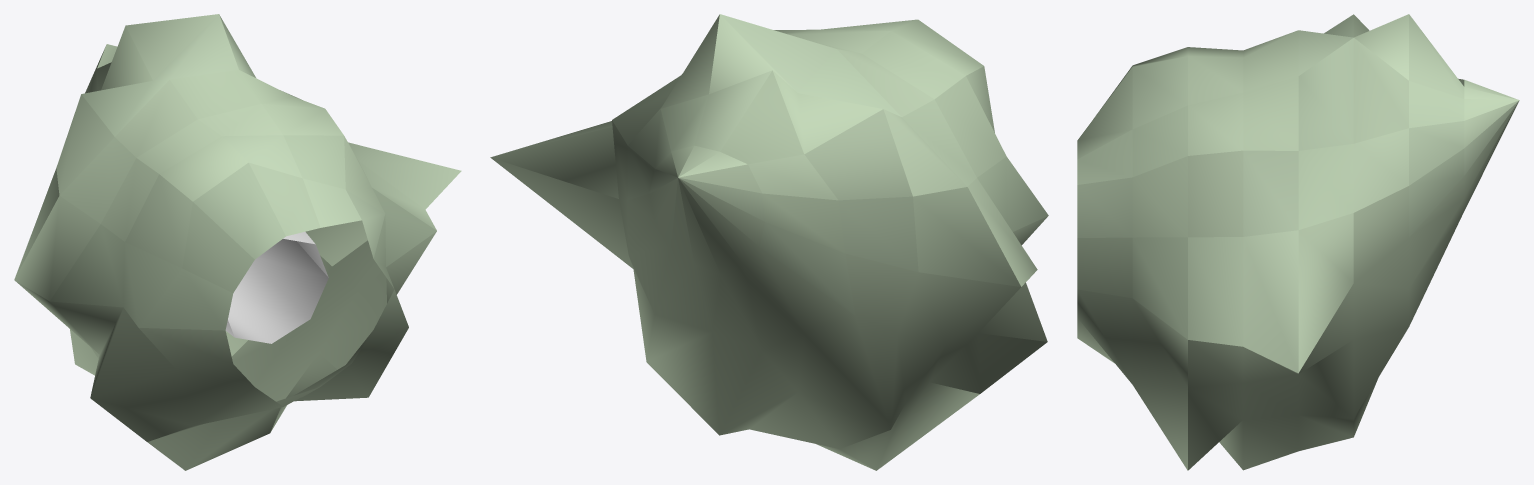
File: kit_luby_tailtip.glb
3 renders of one model, left to right at view 1: azimuth 30°, elevation 25°; view 2: azimuth 150°, elevation 25°; view 3: azimuth 270°, elevation 25°, orthographic. The views are drawn at different scales.
Parts seen in each view (by area): view 1: lime, glow; view 2: lime; view 3: lime.
Part boxes in pixels (box(x1,y1,x2,y2)): lime: box(14, 14, 461, 470); glow: box(225, 232, 328, 343); lime: box(490, 14, 1048, 470); lime: box(1077, 14, 1519, 470).
Size of the model in its own units: 0.184 by 0.1574 by 0.14.
